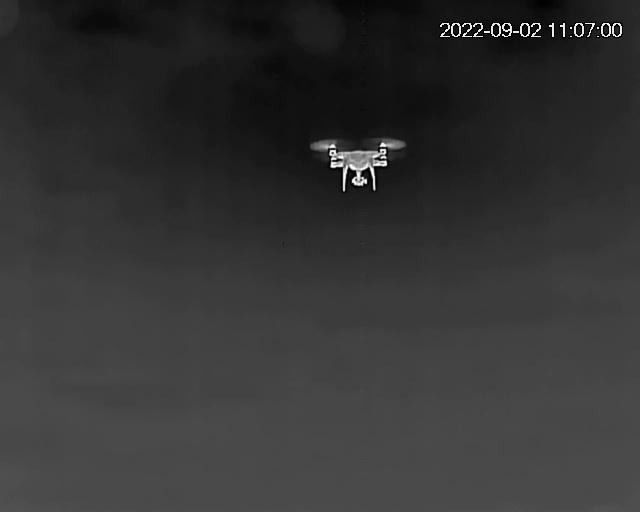DJI-Phantom: (314, 134, 406, 194)
